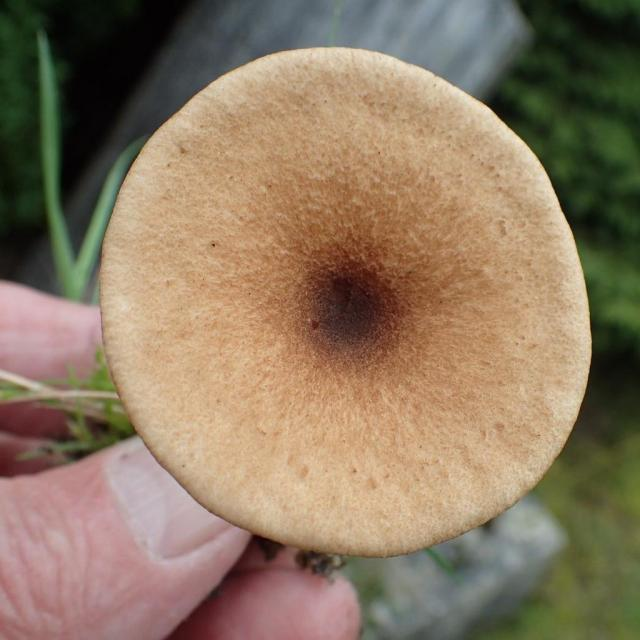Clitocybe maxima: (98, 47, 594, 554)
